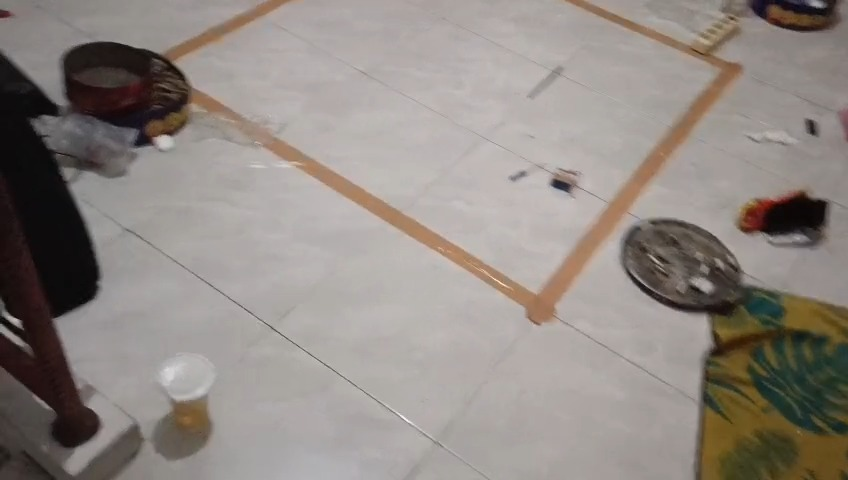floor marking: (192, 58, 741, 324), (165, 0, 289, 60), (572, 2, 685, 52)
